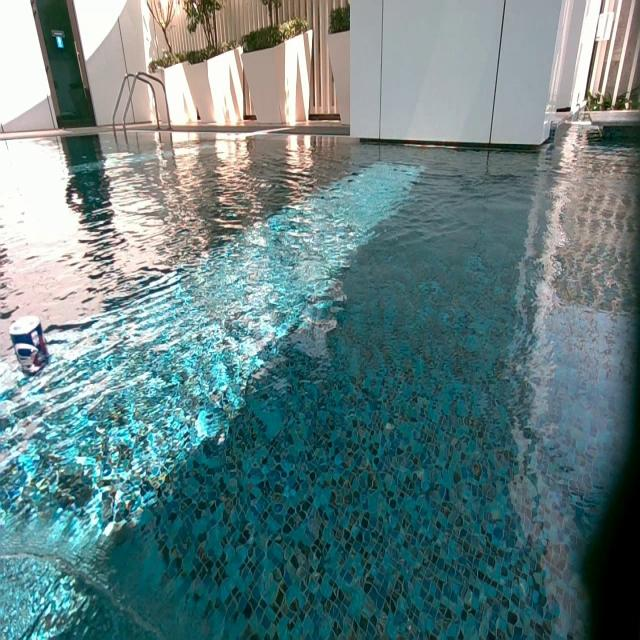Cans: (9, 314, 45, 354)
